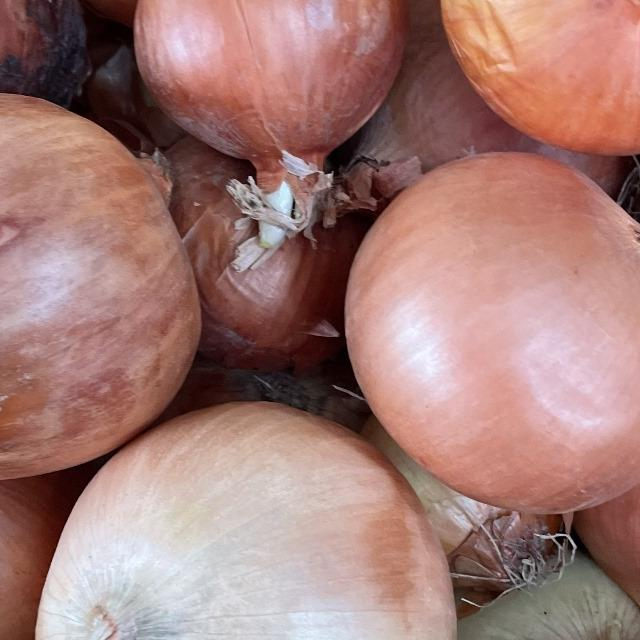onion: (322, 135, 640, 535), (25, 380, 485, 640), (0, 72, 230, 482), (122, 0, 417, 230)
